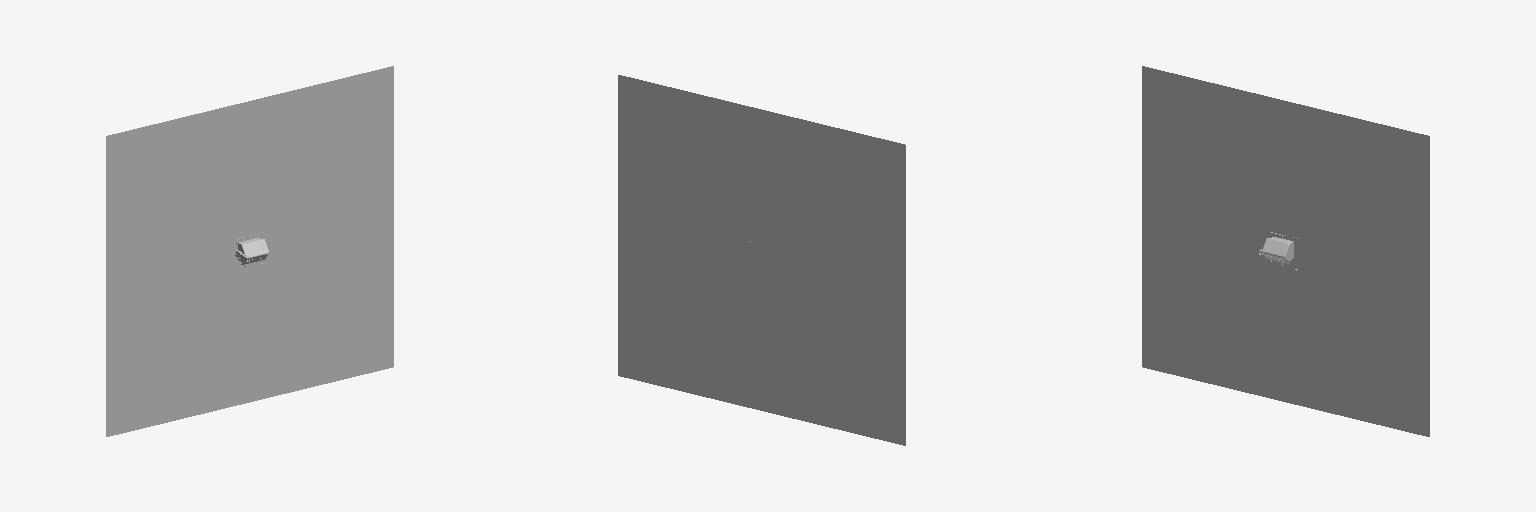
The model's file is asdf2.obj.
3 renders of one model, left to right at view 1: azimuth 30°, elevation 25°; view 2: azimuth 150°, elevation 25°; view 3: azimuth 330°, elevation 25°, orthographic.
Visible parts, largest first — view 1: Plane.026; view 2: Plane.026, Plane; view 3: Plane.026.
Boxes of the visible parts, box(x1,y1,x2,y2) form: Plane.026: box(106, 66, 393, 436); Plane.026: box(618, 75, 905, 445); Plane: box(747, 241, 776, 279); Plane.026: box(1142, 66, 1429, 436).
Size of the model in its own units: 108 by 108 by 7.7.